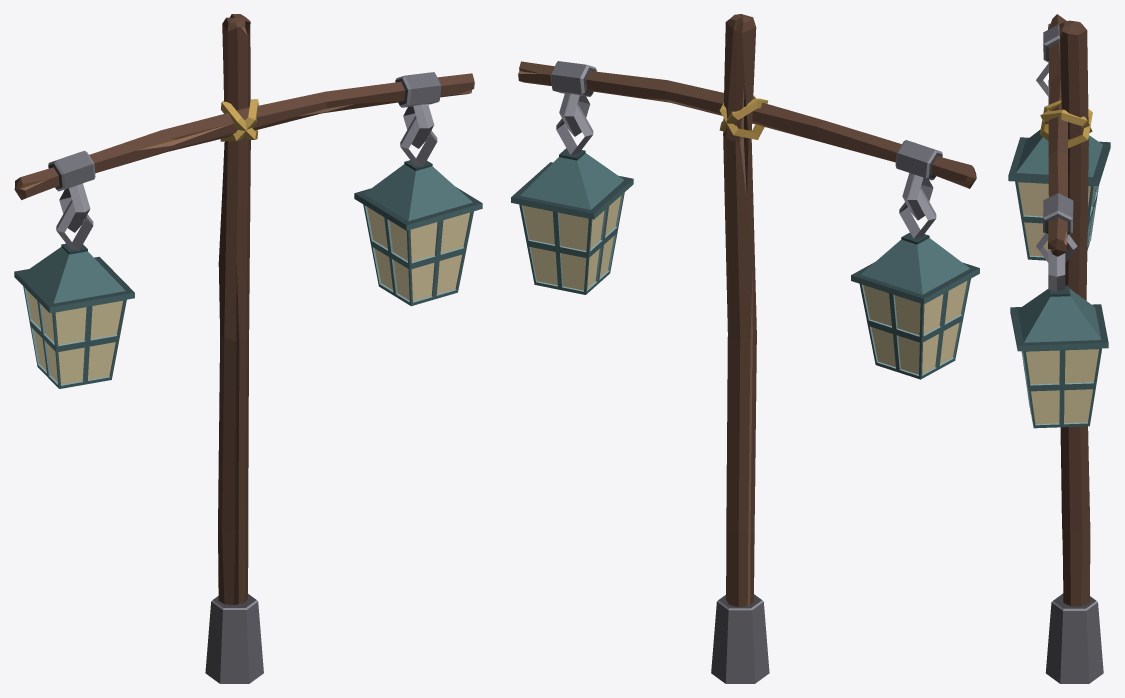
Rendered from JungleLampPost_01.glb.
3 views of the same model, side by side, from view 1: azimuth 30°, elevation 25°; view 2: azimuth 150°, elevation 25°; view 3: azimuth 270°, elevation 25° (orthographic).
Visible parts, largest first — view 1: JungleLampPost_01; view 2: JungleLampPost_01; view 3: JungleLampPost_01.
Boxes of the visible parts, x1,y1,x2,y2 form: JungleLampPost_01: (14,14,482,683); JungleLampPost_01: (511,14,979,683); JungleLampPost_01: (1008,14,1110,683).
Size of what is drawn, in the model's own units: 2.04 by 2.8 by 0.399.
1 material, 1 textured.
